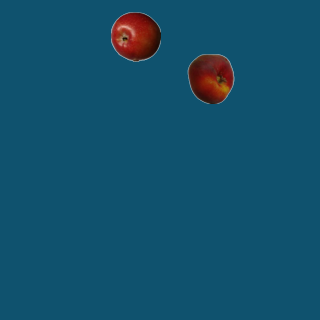Apple Braeburn: (110, 11, 160, 61)
Nectarine Flat: (185, 53, 235, 103)
